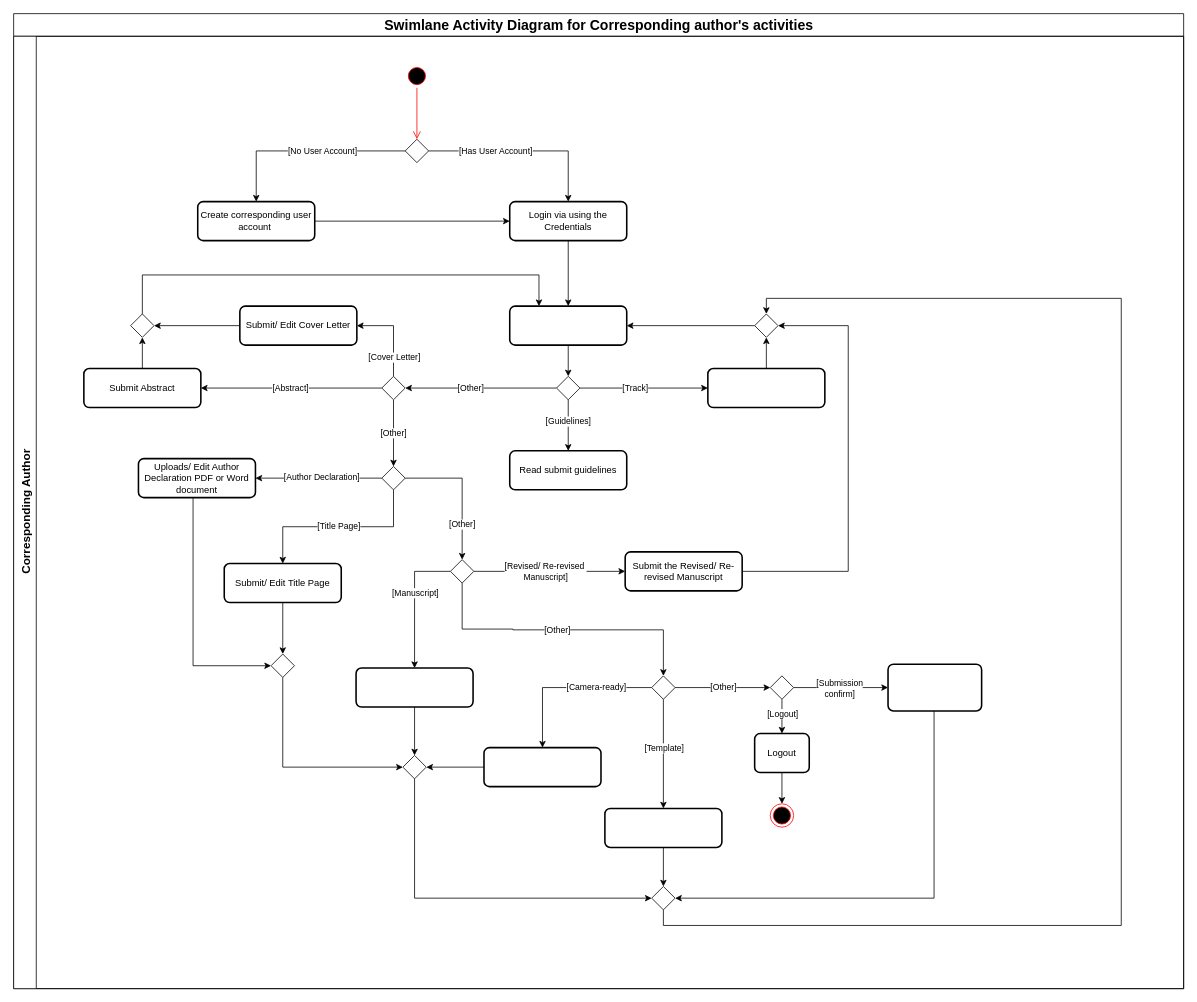
Image size: 1197x1002. Some labels were removed from this diagram. The centre of each missing label's shape, as x and y in pixels:
"Confirm Manuscript submission" goes at point 934,687.
"Download all templates" goes at point 663,827.
"Select/ Edit conference track" goes at point 766,387.
"Upload the Camera-ready Copy" goes at point 542,766.
"Upload/ Edit Manuscript PDF & Word document" goes at point 414,687.
"View Dashboard" goes at point 568,325.
